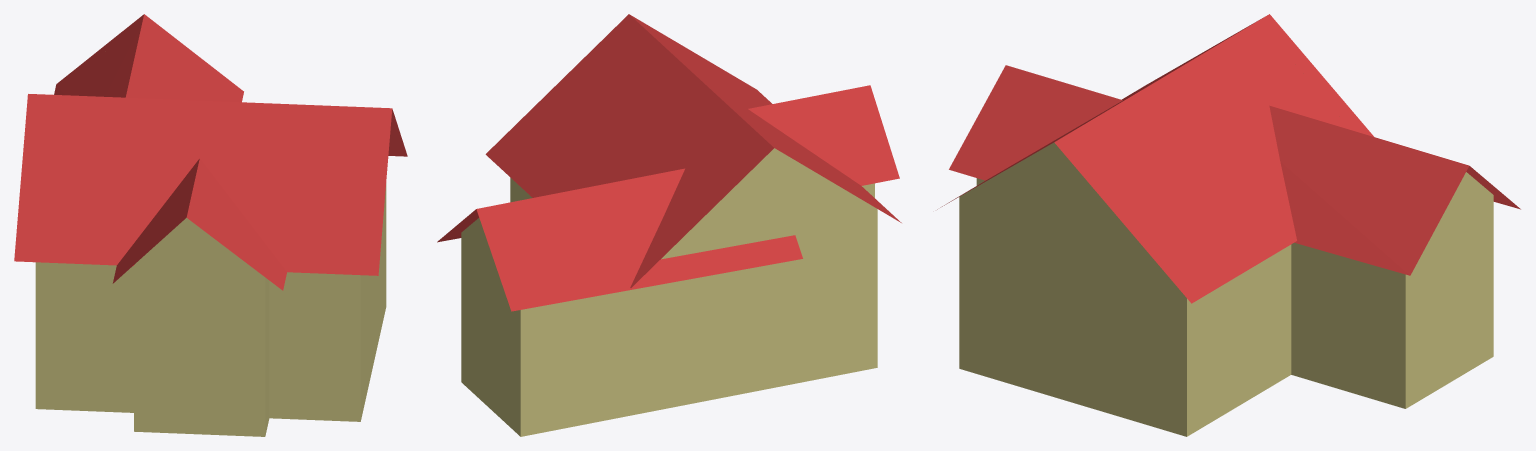
The picture shows the model from 3 angles, left to right: view 1: azimuth 30°, elevation 25°; view 2: azimuth 150°, elevation 25°; view 3: azimuth 270°, elevation 25°; orthographic projection. The views are drawn at different scales.
Bounding box in the file's own units: 18.25 × 22.06 × 10.94.
